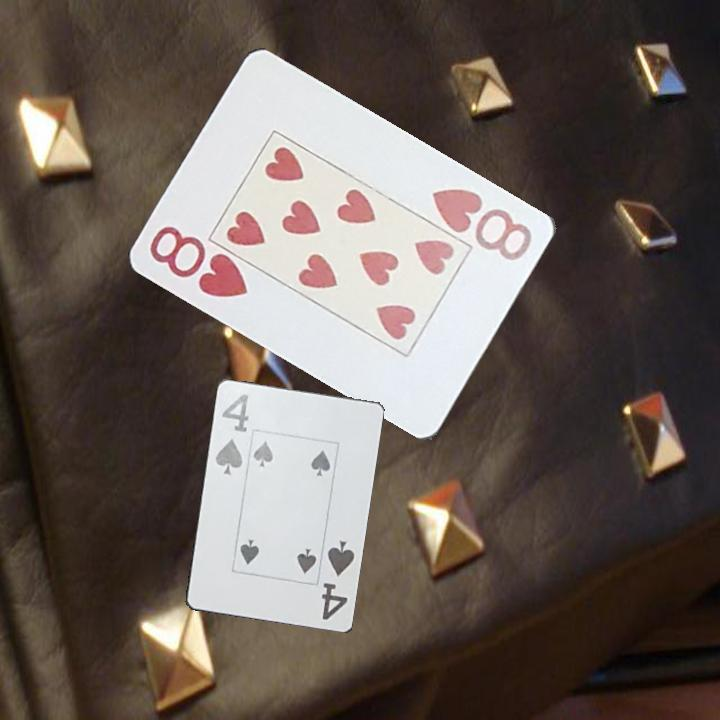4s: (212, 390, 252, 477), (318, 537, 358, 623)
8h: (429, 184, 536, 264), (146, 222, 252, 301)
